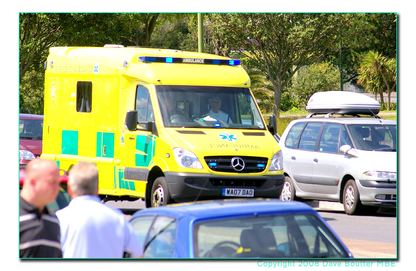ambulance: (42, 46, 287, 209)
